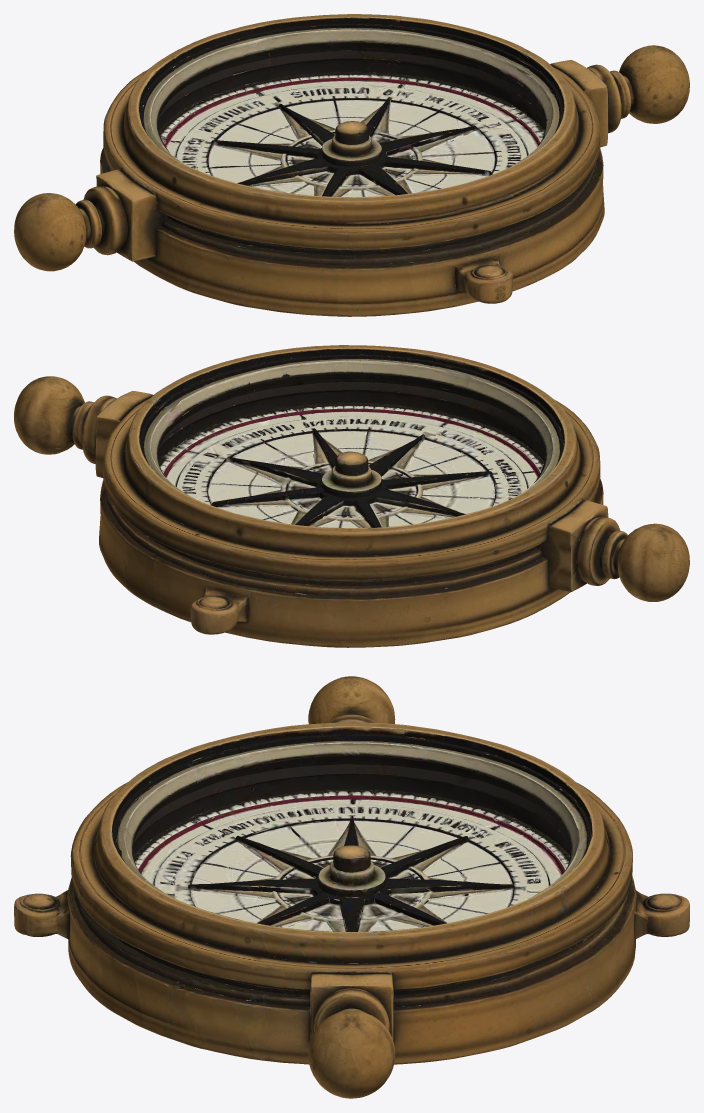
Rendered from compass.glb.
The picture shows the model from 3 angles, top to bottom: view 1: azimuth 30°, elevation 25°; view 2: azimuth 150°, elevation 25°; view 3: azimuth 270°, elevation 25°; orthographic projection. The views are drawn at different scales.
Size of the model in its own units: 1.9 by 0.286 by 1.48.
Materials: 1 (1 with a texture image).
